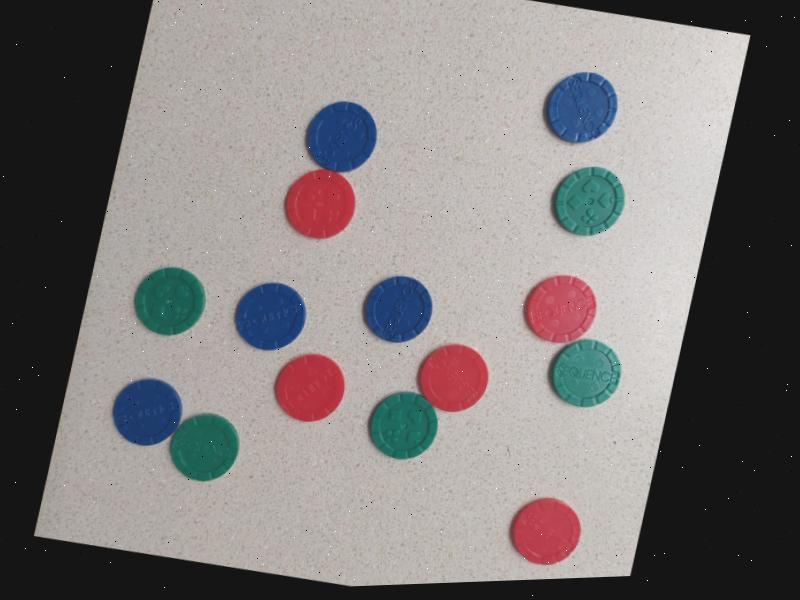Blue_Token: (514, 51, 633, 164), (212, 267, 317, 367), (290, 91, 394, 185), (98, 364, 192, 460), (359, 266, 441, 358)
Green_Token: (349, 372, 463, 484), (539, 318, 637, 428), (541, 153, 642, 255), (120, 256, 218, 360), (155, 396, 251, 497)
Tokens: (502, 259, 611, 357)
